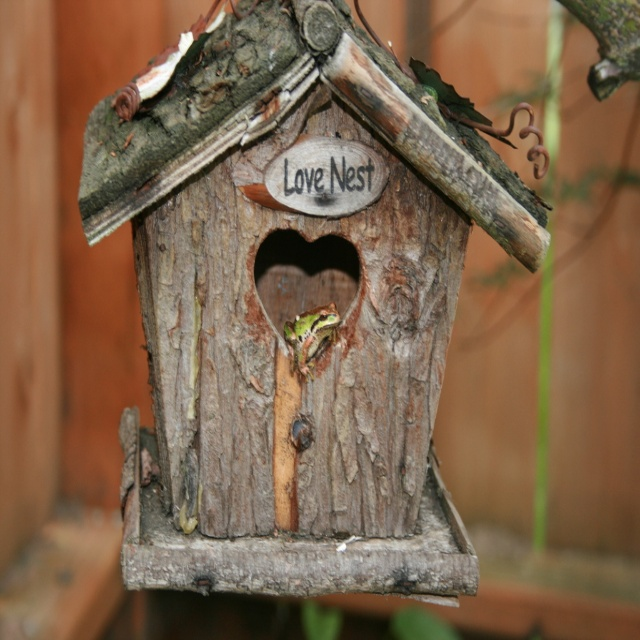Frog: (283, 302, 342, 384)
